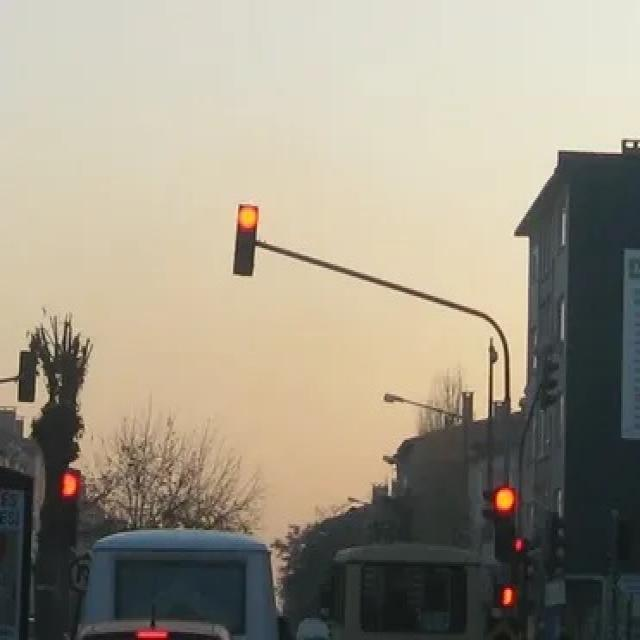kirmizi: (234, 205, 258, 276), (494, 486, 517, 559)
